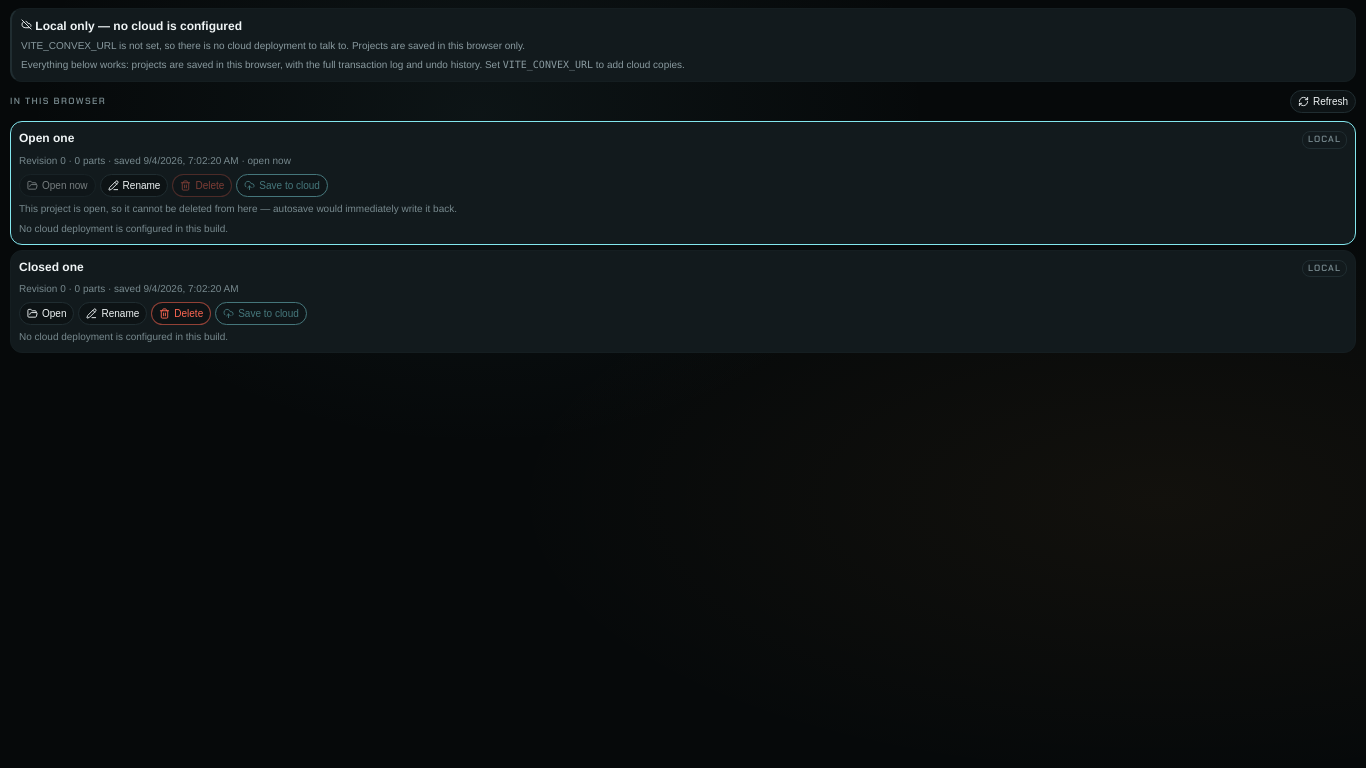
Scenario: Projects panel — mutations › renames a project that is not open by rewriting its checkpoint
The image size is (1366, 768).
Expected: the text "Closed one" is shown, [19,258,84,276]
Click the button "Rename" below "Closed one": point(113, 314) [78,302,147,325]
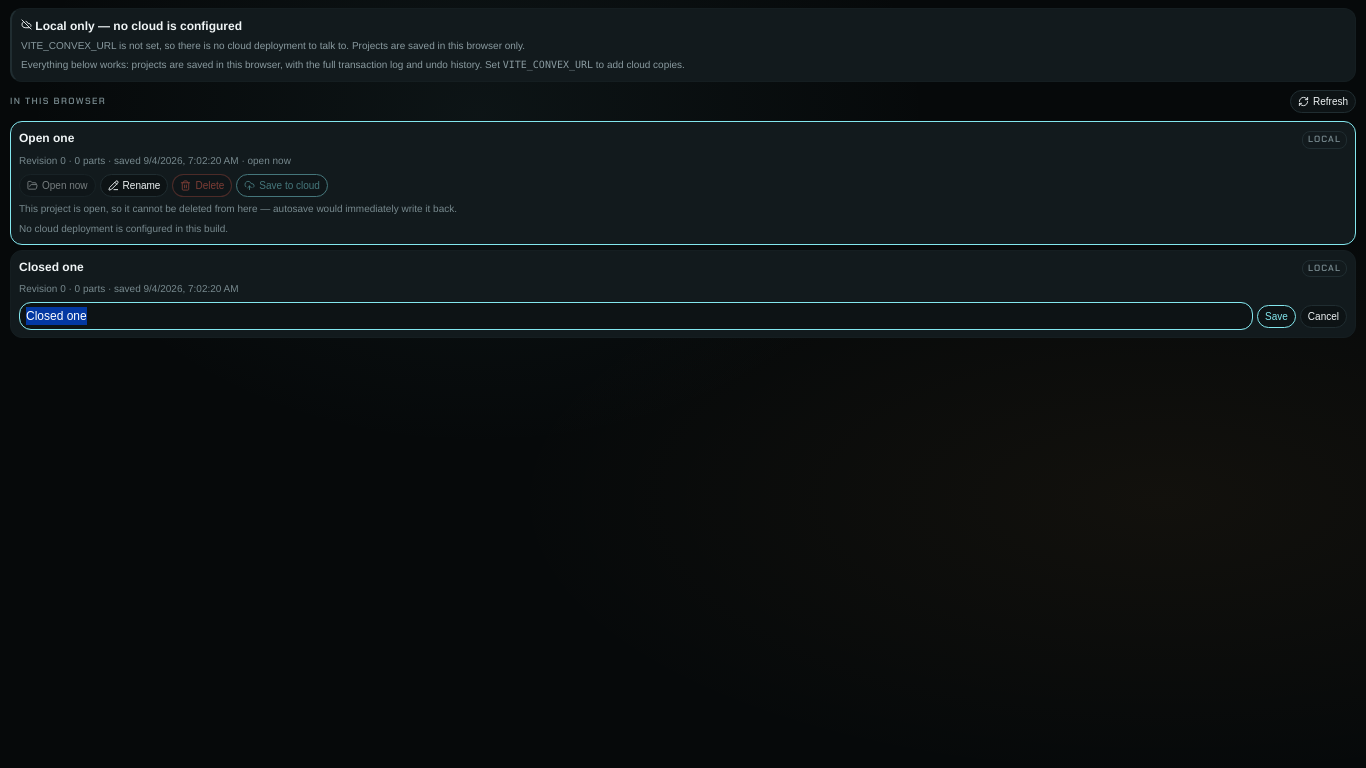
Replace the text in the field named "New name for Closed one" with "Archived hull": point(636, 316) [19,302,1253,330]
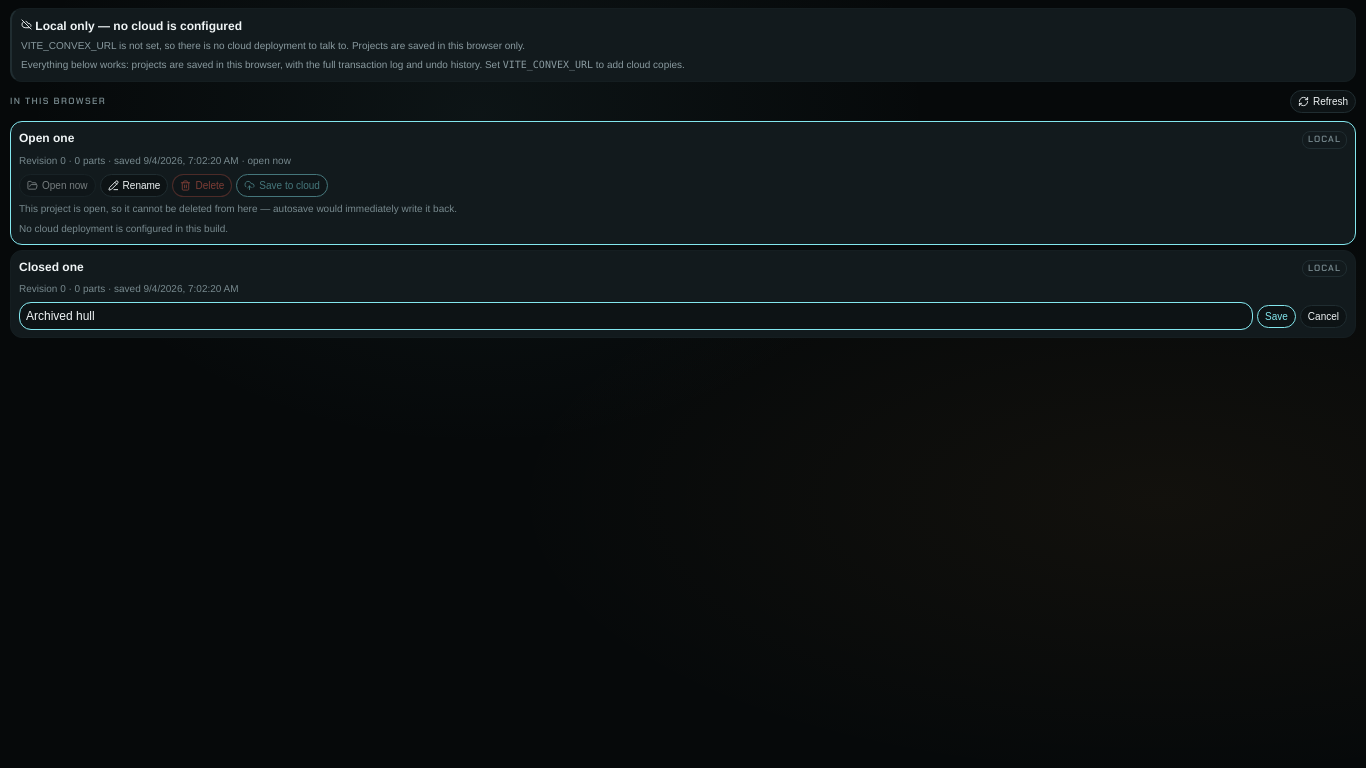
Click the button "Save": point(1276, 316) [1257,304,1296,328]
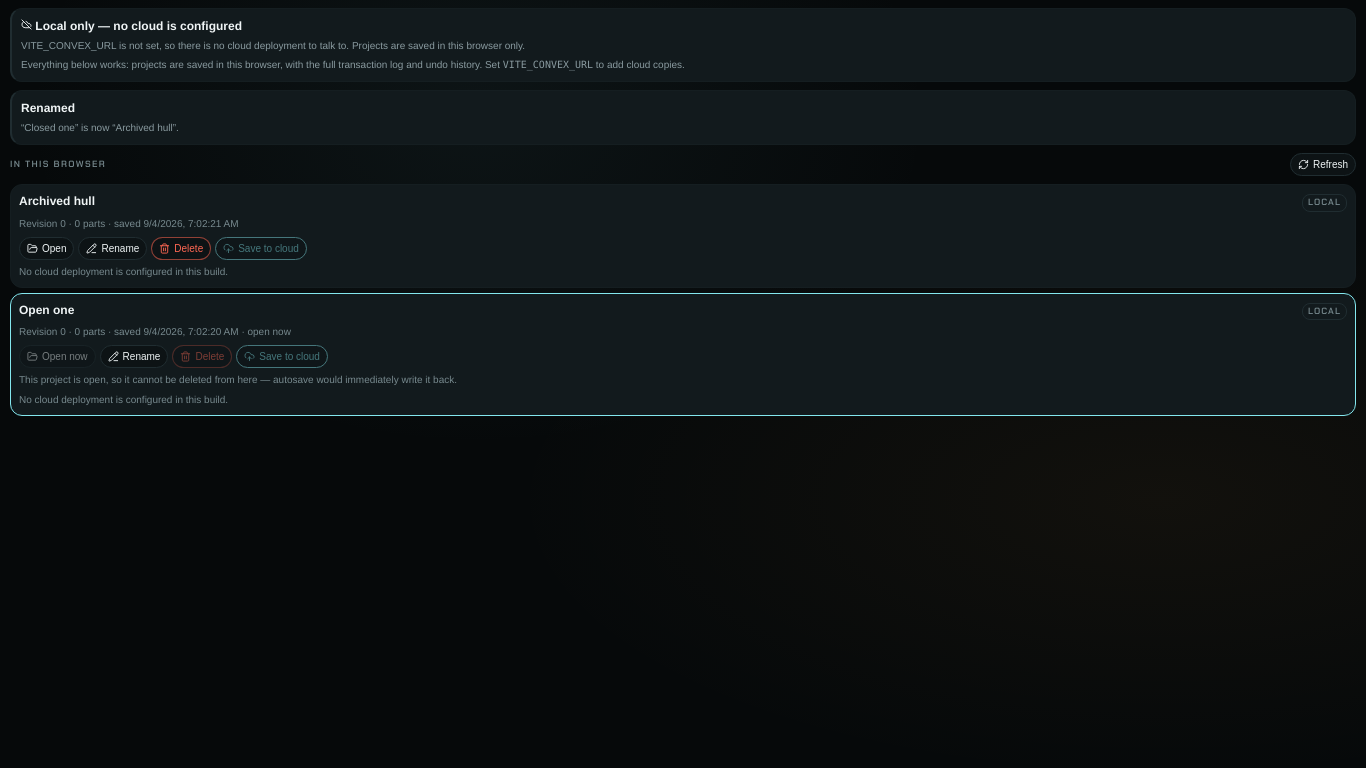
Now the text "Archived hull" is shown, box [19,192,95,210]
